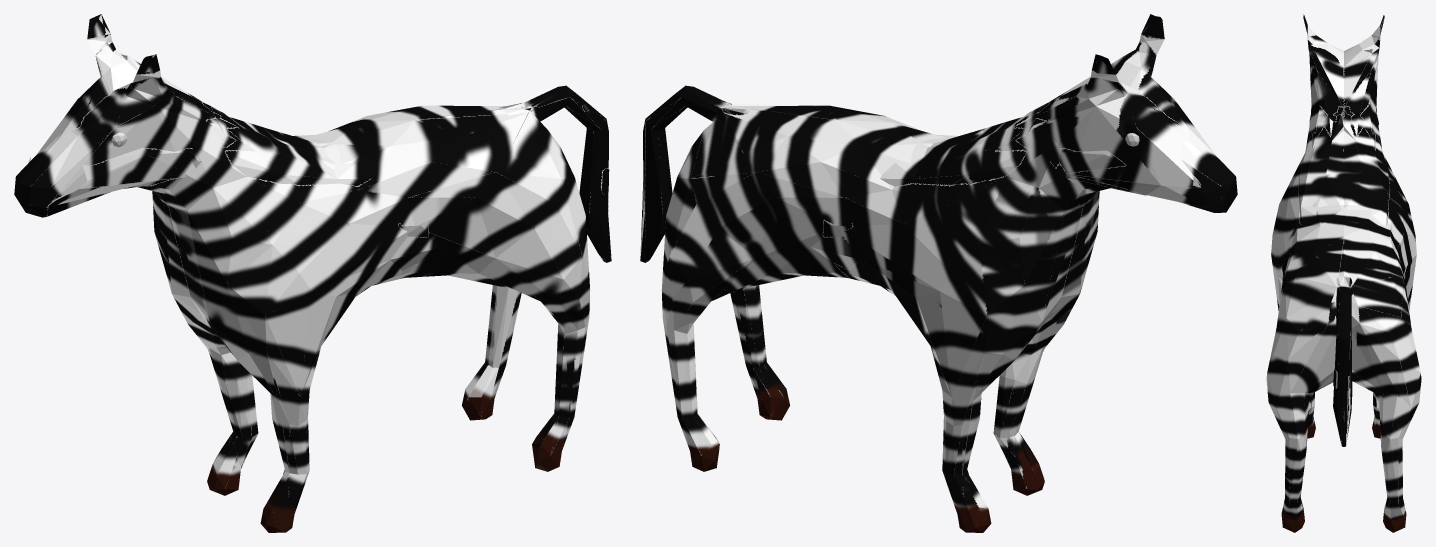
Rendered from Zebra.fbx.
3 renders of one model, left to right at view 1: azimuth 30°, elevation 25°; view 2: azimuth 150°, elevation 25°; view 3: azimuth 270°, elevation 25°, orthographic. The views are drawn at different scales.
Parts seen in each view (by area): view 1: Body; view 2: Body; view 3: Body.
Boxes of the visible parts, box(x1,y1,x2,y2) form: Body: box(14, 14, 611, 532); Body: box(640, 14, 1237, 532); Body: box(1266, 14, 1421, 532).
Bounding box in the file's own units: 919 × 753 × 281.
Materials: 1 (1 with a texture image).
